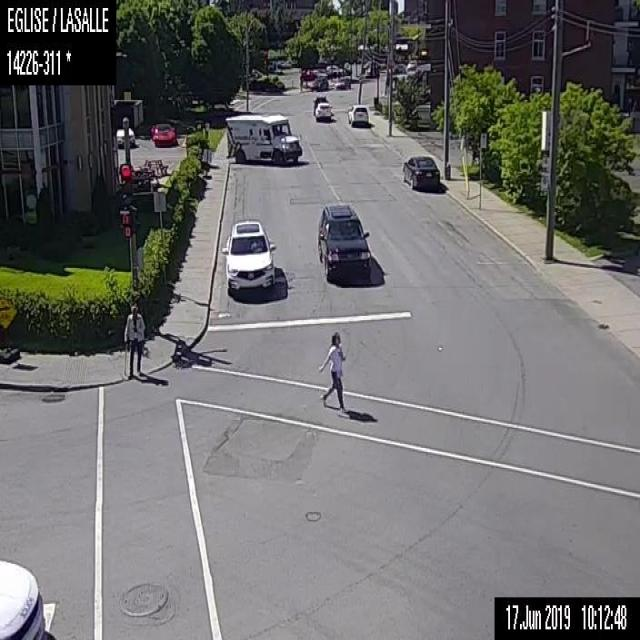pedestrian: (318, 331, 348, 418), (121, 301, 144, 379)
vehicle: (315, 198, 370, 278), (224, 112, 302, 165), (221, 219, 276, 293), (0, 558, 45, 638), (399, 152, 439, 188), (152, 121, 178, 147), (346, 103, 368, 125), (115, 127, 136, 146), (314, 101, 333, 120), (310, 76, 329, 92), (333, 76, 350, 91), (312, 93, 326, 106)
